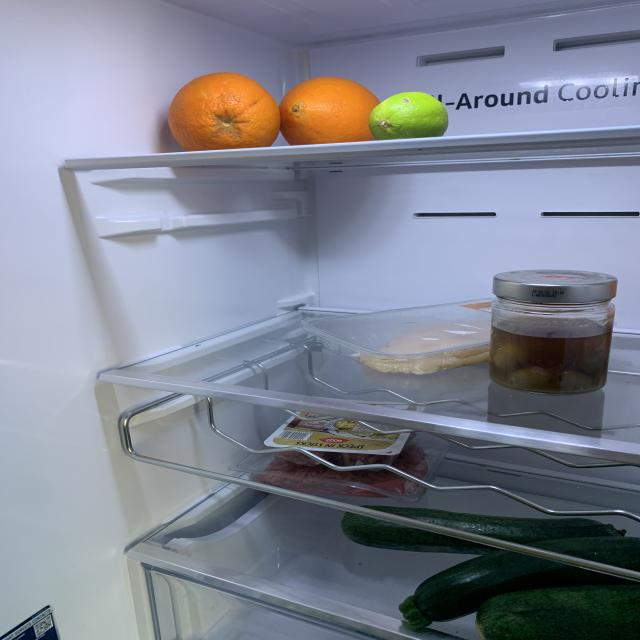bacon: (342, 452, 396, 468), (278, 448, 324, 466)
chicken_breast: (362, 319, 490, 373)
courgettes: (340, 505, 640, 640)
ground_beef: (256, 444, 428, 496)
lime: (371, 92, 449, 141)
olives: (492, 320, 610, 391)
orange: (172, 72, 280, 152), (280, 76, 379, 144)
